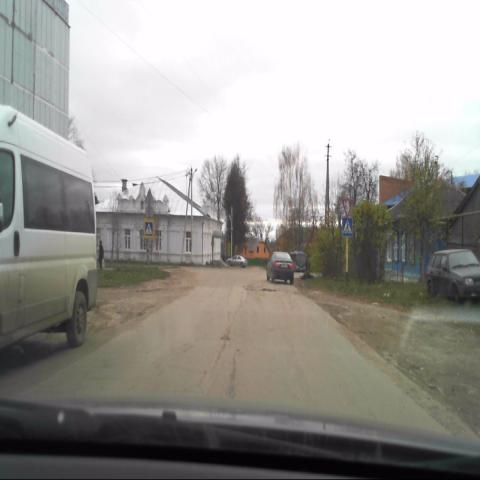2_4: (342, 199, 352, 216)
5_19_1: (143, 219, 155, 239), (342, 218, 352, 237)
